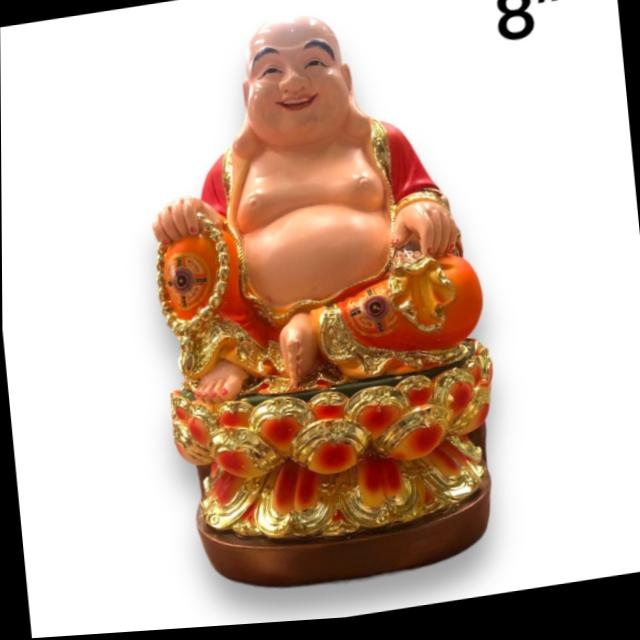Smiling Buddha: (130, 0, 488, 417)
